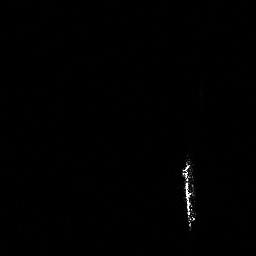ship: (179, 156, 200, 232)
